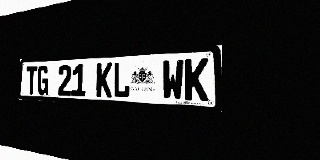1: (71, 64, 86, 96)
2: (58, 64, 71, 96)
G: (37, 65, 49, 95)
K: (184, 58, 209, 101), (96, 62, 112, 98)
L: (112, 62, 130, 98)
T: (26, 66, 37, 95)
W: (162, 59, 184, 100)
